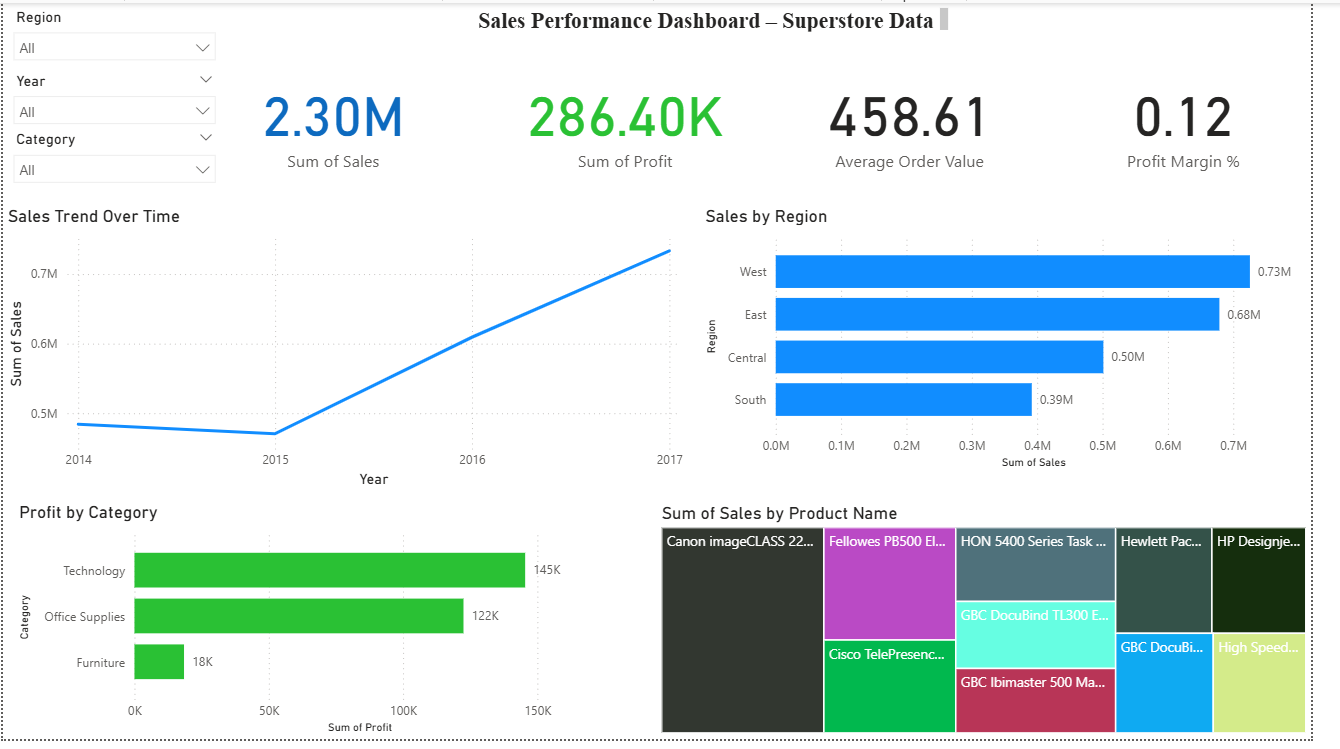

The page's visual inventory and layout, read from the dashboard file:
{"tool":"powerbi","page":{"name":"Page 1","canvas":[1280,720],"ordinal":0},"visuals":[{"type":"card","fields":{"Values":["Sum(Sample - Superstore.Sales)"]},"box":[194.4,33,258,165.1],"z":0},{"type":"card","fields":{"Values":["Sum(Sample - Superstore.Profit)"]},"box":[490.4,33,237.2,165.1],"z":1000},{"type":"card","fields":{"Values":["Sample - Superstore.Average Order Value"]},"box":[744.7,33,284.9,165.1],"z":2000},{"type":"card","fields":{"Values":["Sample - Superstore.Profit Margin %"]},"box":[1029.6,33,250.7,165.1],"z":3000},{"type":"lineChart","title":"Sales Trend Over Time","fields":{"Category":["Sample - Superstore.Order Date.Variation.Date Hierarchy.Year","Sample - Superstore.Order Date.Variation.Date Hierarchy.Month"],"Y":["Sum(Sample - Superstore.Sales)"]},"box":[0,198.1,670.1,281.3],"z":4000},{"type":"clusteredBarChart","title":"Sales by Region","fields":{"Category":["Sample - Superstore.Region"],"Y":["Sum(Sample - Superstore.Sales)"]},"box":[682.3,198.1,598,262.9],"z":5000},{"type":"clusteredBarChart","title":"Profit by Category","fields":{"Category":["Sample - Superstore.Category"],"Y":["Sum(Sample - Superstore.Profit)"]},"box":[11,487.9,578.4,232.3],"z":6000},{"type":"treemap","fields":{"Group":["Sample - Superstore.Product Name"],"Values":["Sum(Sample - Superstore.Sales)"]},"box":[640.1,489.5,640.1,230],"z":7000},{"type":"slicer","fields":{"Values":["Sample - Superstore.Region"]},"box":[0,0,217.7,64.8],"z":8000},{"type":"slicer","fields":{"Values":["Sample - Superstore.Order Date.Variation.Date Hierarchy.Year"]},"box":[0,62.4,217.7,73.4],"z":9000},{"type":"slicer","fields":{"Values":["Sample - Superstore.Category"]},"box":[0,119.8,217.7,63.6],"z":10000},{"type":"textbox","box":[459.8,0,469.6,33],"z":11000}]}

Visuals, with their boxes in screenshot pixels (x1, y1, x2, y2), scaled from the page's 1280x720 canvas onto the 1340x749 screenshot:
card - Sum(Sample - Superstore.Sales): (204,34,474,206)
card - Sum(Sample - Superstore.Profit): (513,34,762,206)
card - Sample - Superstore.Average Order Value: (780,34,1078,206)
card - Sample - Superstore.Profit Margin %: (1078,34,1339,206)
"Sales Trend Over Time" lineChart: (0,206,702,499)
"Sales by Region" clusteredBarChart: (714,206,1339,480)
"Profit by Category" clusteredBarChart: (12,508,617,748)
treemap - Sample - Superstore.Product Name x Sum(Sample - Superstore.Sales): (670,509,1339,748)
slicer - Sample - Superstore.Region: (0,0,228,67)
slicer - Sample - Superstore.Order Date.Variation.Date Hierarchy.Year: (0,65,228,141)
slicer - Sample - Superstore.Category: (0,125,228,191)
textbox: (481,0,973,34)
